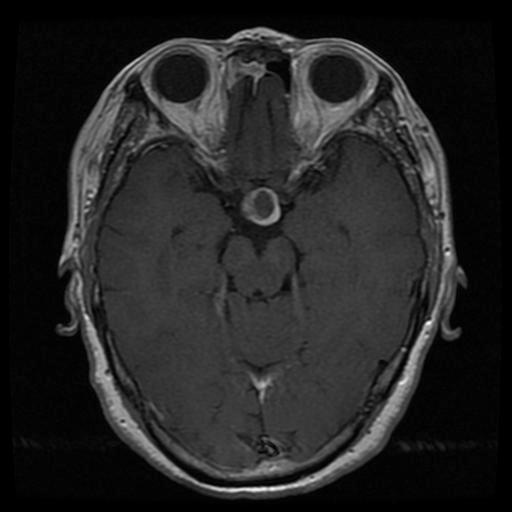Tumour-Pituitary: (235, 188, 282, 235)
